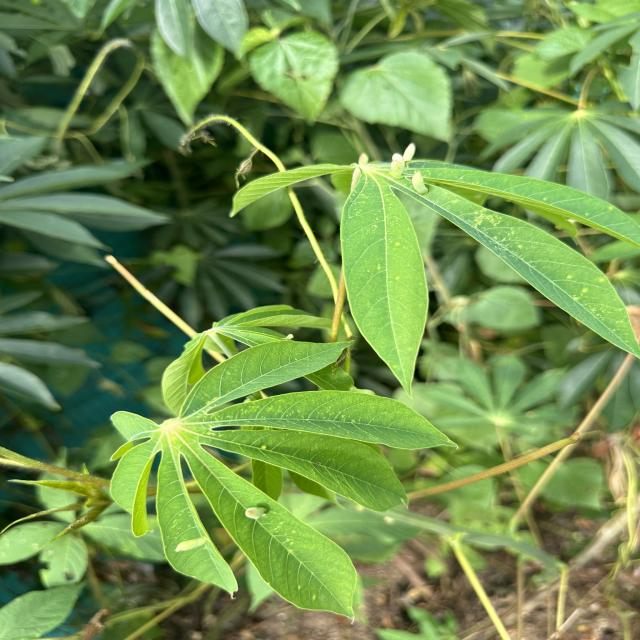Mosca: (395, 135, 453, 211), (173, 529, 212, 564), (237, 486, 267, 528), (348, 144, 374, 176)
